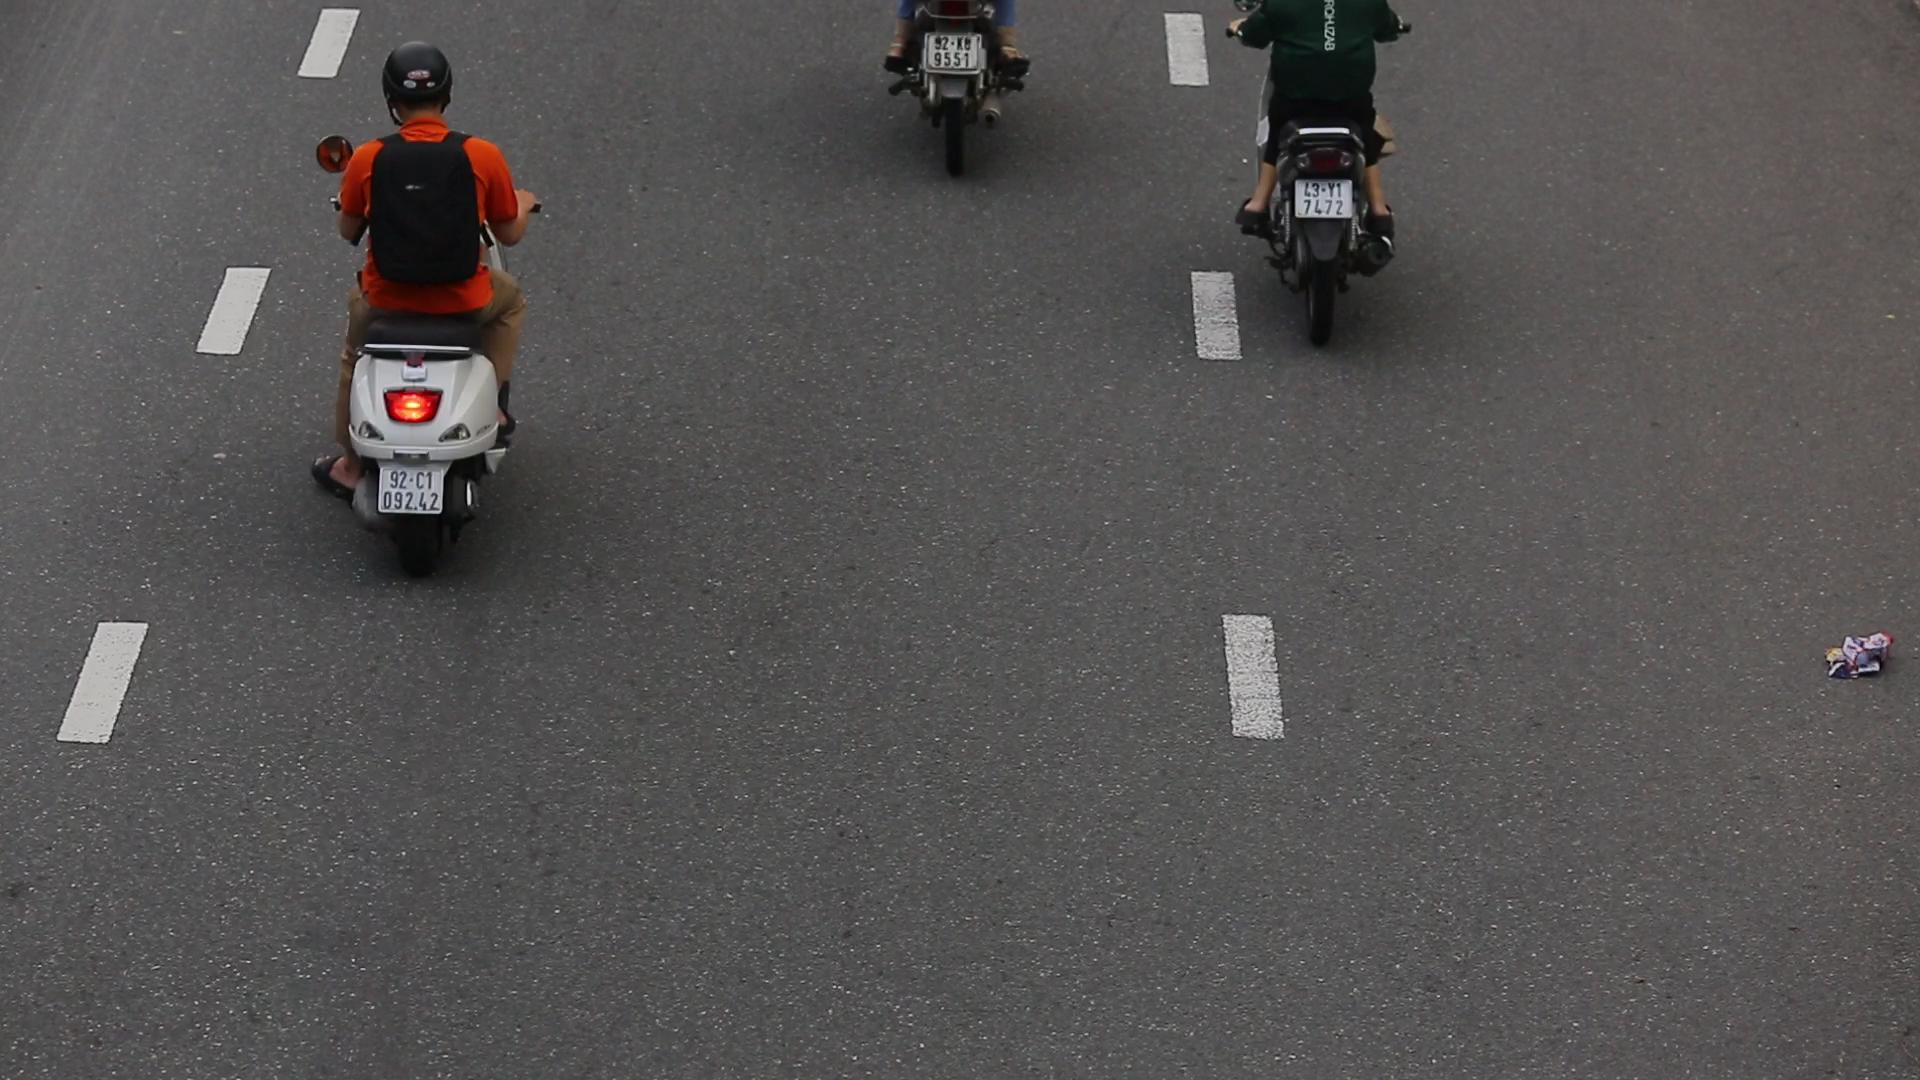motobike: (301, 34, 563, 599)
